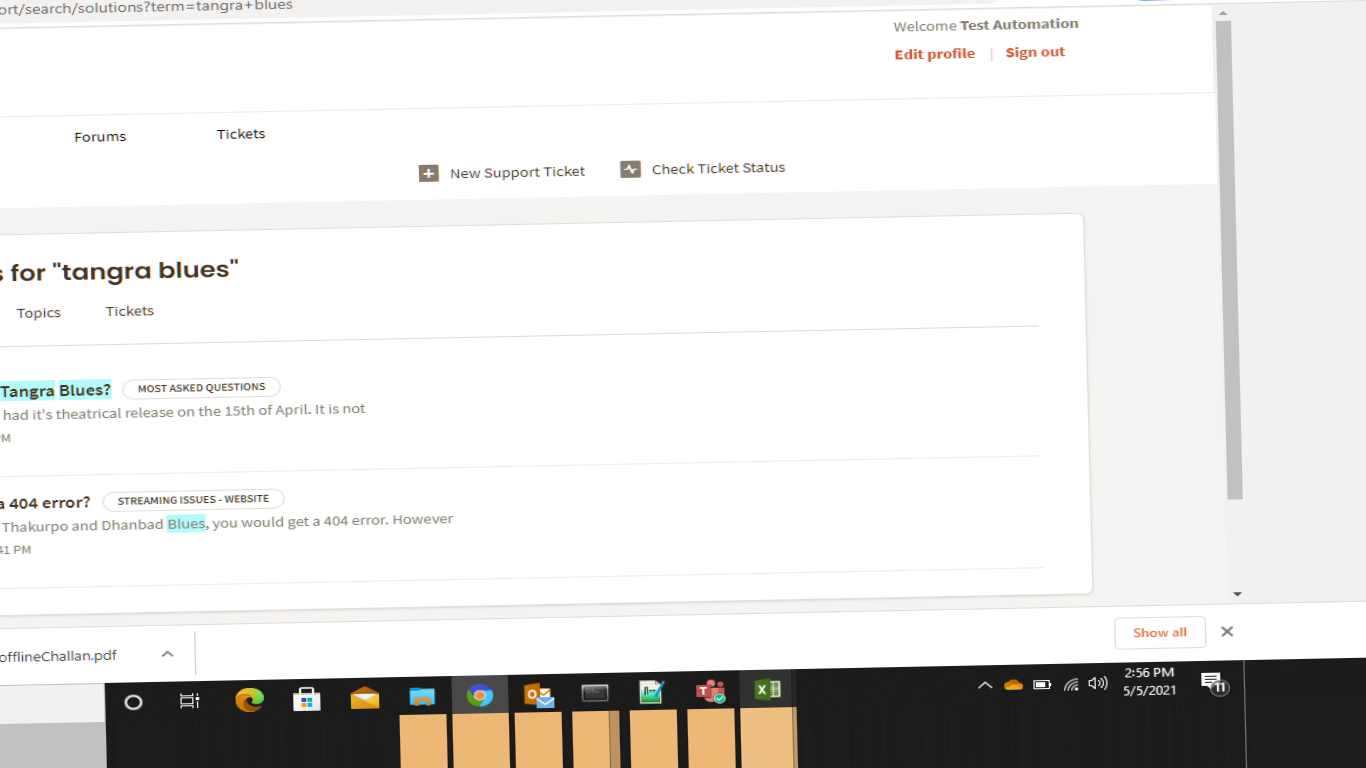profileicon: (892, 38, 977, 68)
